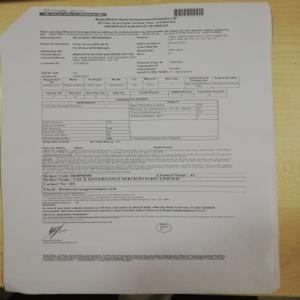table: (42, 100, 218, 142), (40, 87, 230, 100), (44, 75, 240, 87)
text: (39, 29, 233, 72), (42, 145, 235, 173), (94, 16, 179, 28)
